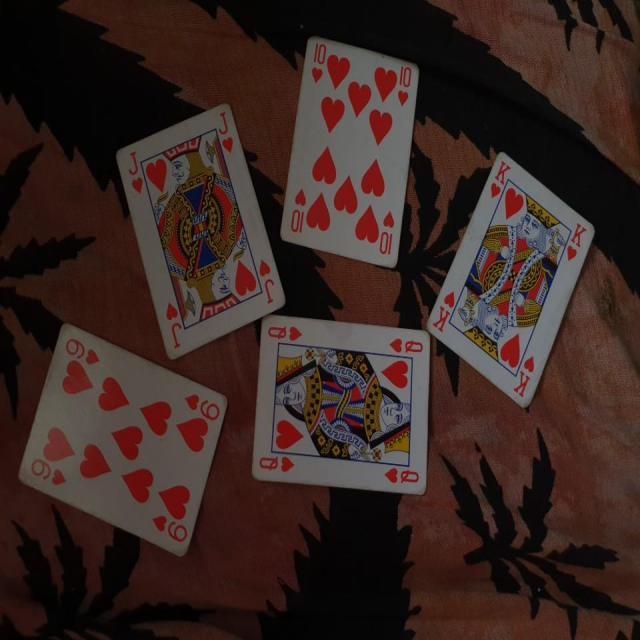10 Hearts: (273, 35, 424, 273)
9 Hearts: (17, 317, 229, 570)
J Hearts: (111, 100, 286, 358)
K Hearts: (423, 152, 598, 407)
Q Hearts: (247, 309, 440, 506)
